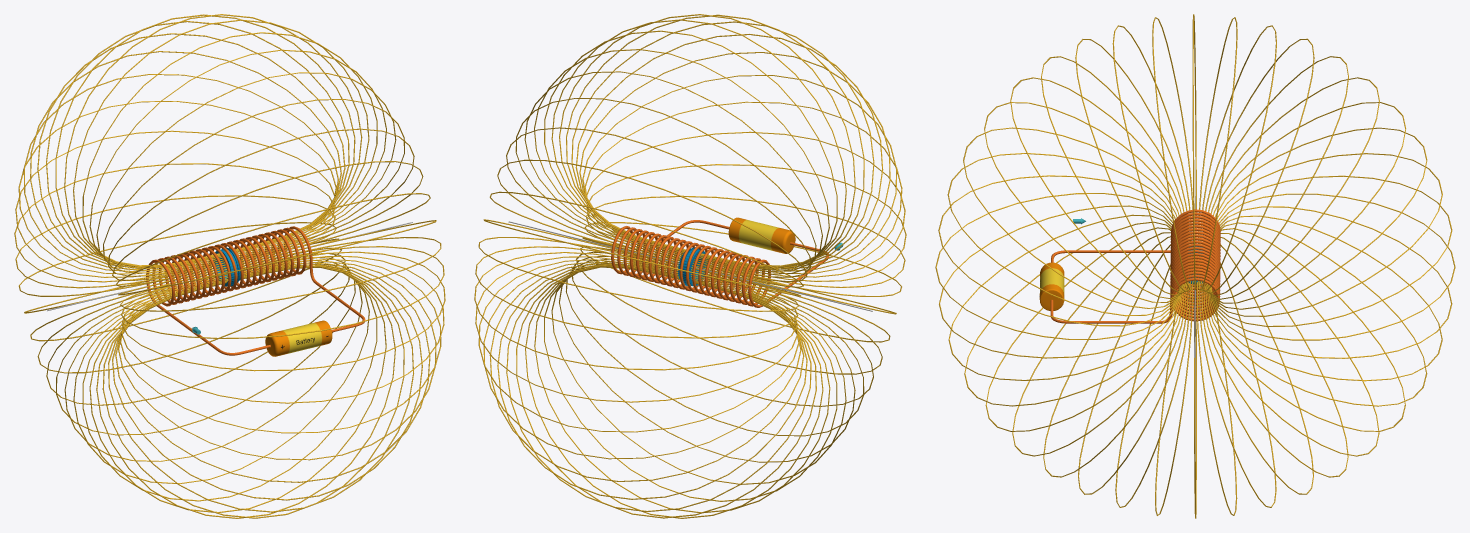
The picture shows the model from 3 angles, left to right: view 1: azimuth 30°, elevation 25°; view 2: azimuth 150°, elevation 25°; view 3: azimuth 270°, elevation 25°; orthographic projection. The views are drawn at different scales.
Visible parts, largest first — view 1: Coil, Battery, Torus_01.016, Torus_01.017, Torus_01.041, Torus_01.018, Torus_01.040, Torus_01.015, Torus_01.019, Torus_01.039, Torus_01.003, Torus_01.038 (+29 smaller); view 2: Coil, Battery, Torus_01.027, Torus_01.003, Torus_01.028, Torus_01.058, Torus_01.004, Torus_01.026, Torus_01.005, Torus_01.029, Torus_01.041, Torus_01.025 (+31 smaller); view 3: Coil, Battery, Torus_01.031, Torus_01.032, Torus_01.041, Torus_01.003, Torus_01.029, Torus_01.013, Torus_01.033, Torus_01.030, Torus_01.040, Torus_01.011 (+30 smaller).
Boxes of the visible parts, <box> form: Coil: <box>146,226,365,355</box>; Battery: <box>265,320,332,356</box>; Torus_01.016: <box>115,263,430,482</box>; Torus_01.017: <box>112,264,422,500</box>; Torus_01.041: <box>73,19,369,266</box>; Torus_01.018: <box>108,266,413,512</box>; Torus_01.040: <box>64,14,362,265</box>; Torus_01.015: <box>118,261,436,460</box>; Torus_01.019: <box>102,267,404,518</box>; Torus_01.039: <box>55,14,355,263</box>; Torus_01.003: <box>89,49,386,269</box>; Torus_01.038: <box>46,21,349,267</box>; Coil: <box>611,220,829,307</box>; Battery: <box>728,217,795,253</box>; Torus_01.027: <box>497,264,807,499</box>; Torus_01.003: <box>551,19,846,267</box>; Torus_01.028: <box>489,263,804,481</box>; Torus_01.058: <box>544,30,837,268</box>; Torus_01.004: <box>559,14,855,265</box>; Torus_01.026: <box>506,266,811,511</box>; Torus_01.005: <box>566,14,864,265</box>; Torus_01.029: <box>483,261,801,459</box>; Torus_01.041: <box>534,49,829,269</box>; Torus_01.025: <box>516,267,816,518</box>; Coil: <box>1050,209,1220,323</box>; Battery: <box>1039,262,1064,310</box>; Torus_01.031: <box>1211,206,1452,358</box>; Torus_01.032: <box>1211,193,1455,340</box>; Torus_01.041: <box>1198,17,1237,290</box>; Torus_01.003: <box>1152,17,1193,290</box>; Torus_01.029: <box>1208,222,1427,406</box>; Torus_01.013: <box>939,205,1179,358</box>; Torus_01.033: <box>1211,175,1452,326</box>; Torus_01.030: <box>1210,215,1442,381</box>; Torus_01.040: <box>1200,25,1276,291</box>; Torus_01.011: <box>938,175,1178,326</box>.
Size of what is drawn, in the model's own units: 0.842 by 1.02 by 1.02.
Materials: 7 (1 with a texture image).
